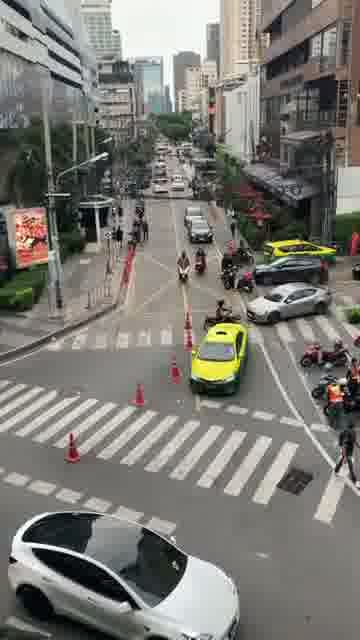bike: (311, 361, 359, 399), (300, 335, 351, 367), (323, 378, 359, 416), (202, 306, 241, 333), (224, 271, 254, 294), (227, 246, 254, 265), (220, 262, 241, 281), (177, 258, 190, 282), (194, 253, 205, 274), (192, 183, 199, 199)
car: (6, 508, 242, 640), (188, 322, 249, 396), (246, 281, 332, 324), (251, 253, 328, 285), (262, 238, 337, 264), (187, 215, 214, 243), (183, 205, 202, 226)
pedestrian: (333, 416, 360, 490), (326, 376, 345, 430), (229, 214, 240, 240), (226, 205, 234, 230), (115, 223, 123, 248), (141, 216, 149, 241), (109, 225, 117, 248), (110, 205, 116, 223), (117, 205, 123, 222)
